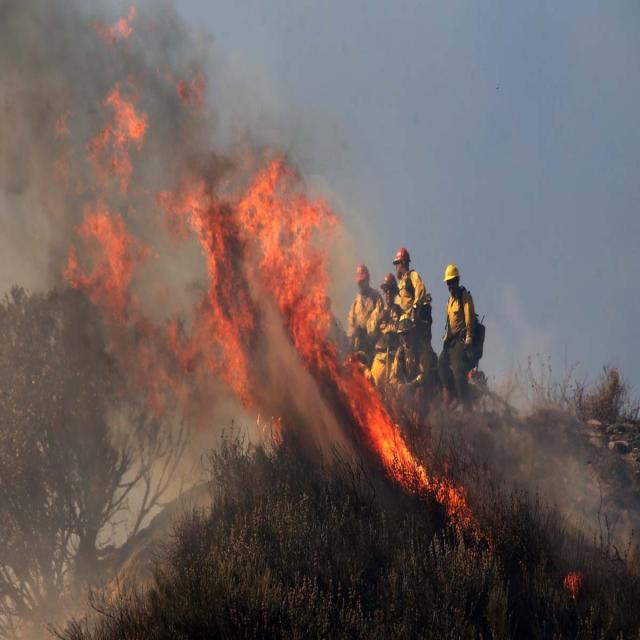Fire: (76, 141, 468, 539), (0, 23, 224, 514)
